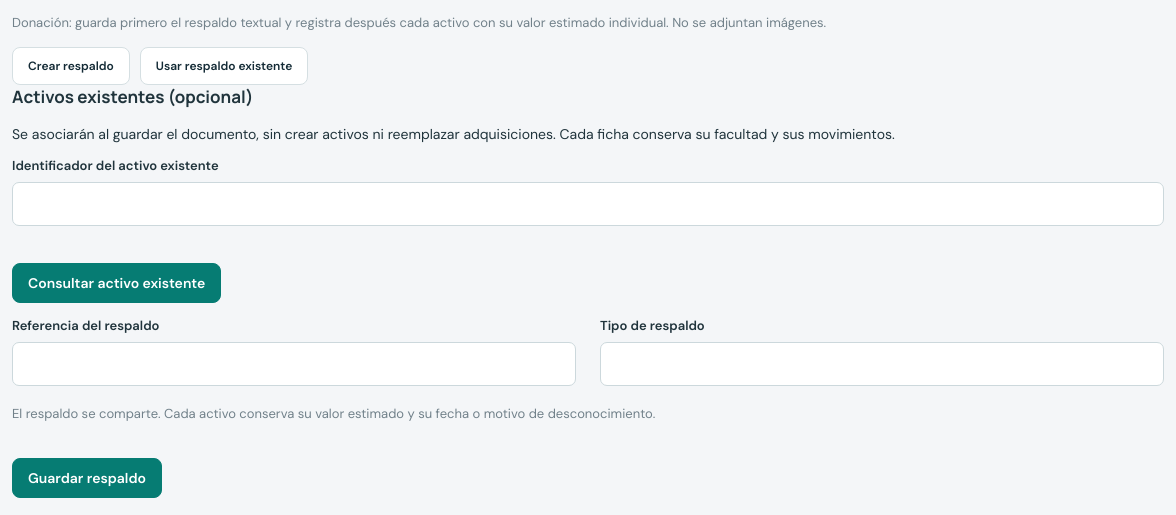
cargar compra desde donaciones rechaza el tipo sin convertir el documento
The image size is (1176, 515).
Click the button "Usar respaldo existente" at coordinates (224, 66), box [140,47,308,85]
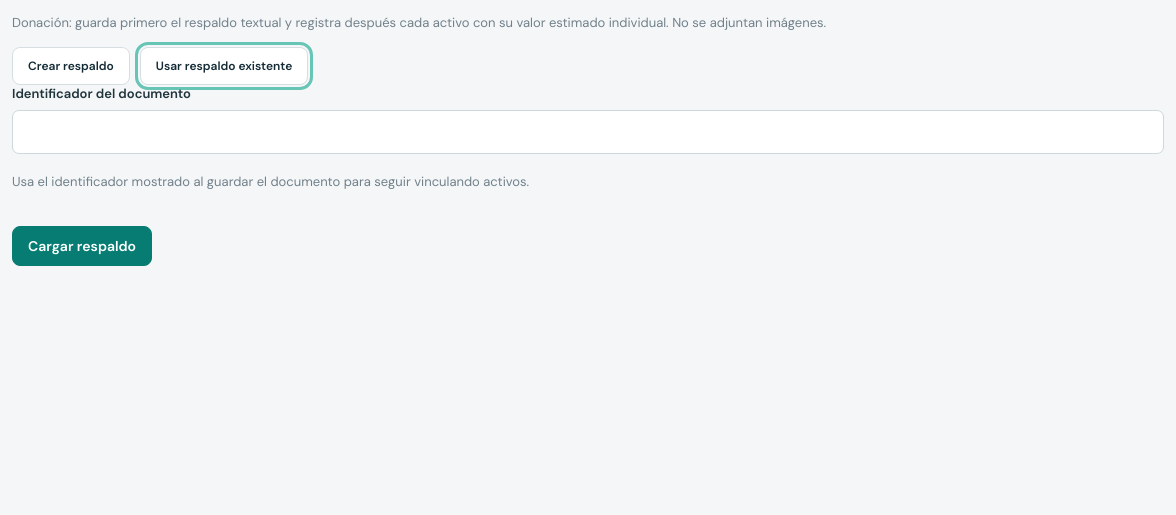
Type "29" into the field labelled "Identificador del documento" at coordinates (588, 132), box [12,110,1164,154]
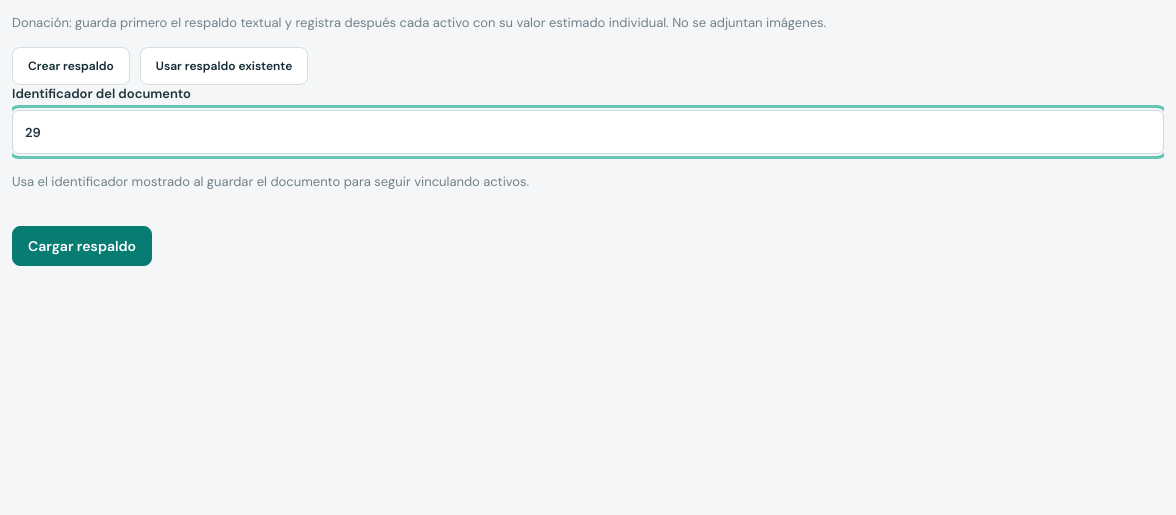
Click the button "Cargar respaldo" at coordinates (82, 246), box [12,226,152,266]
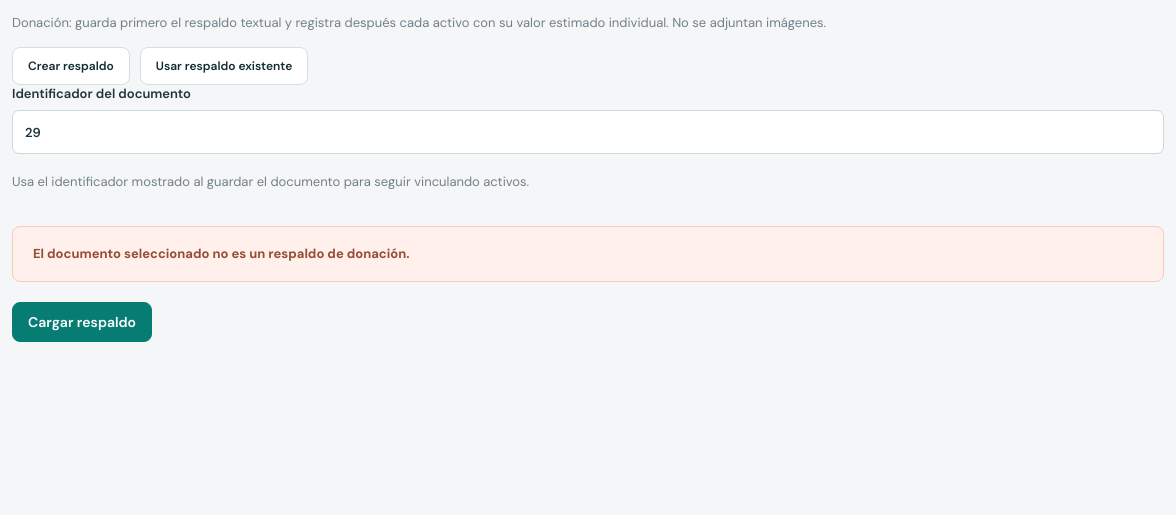
Expected: the message shows "no es un respaldo de donación", [33,245,410,262]
